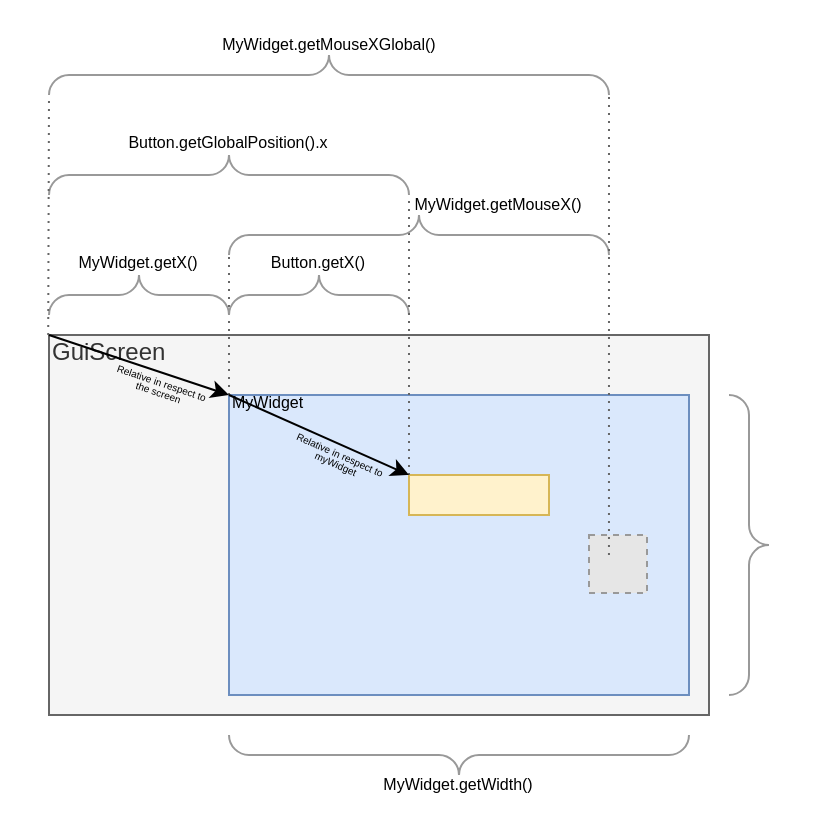
Image size: 824x828. Some labels were removed from this diagram. Grey dashed boxes stand in for pictures. The shapes that lost their labels are listed below. From the top down, each one's centre as x and y in pixels, then its label:
(478,494): Button
(748,544): MyWidget.getHeight()
